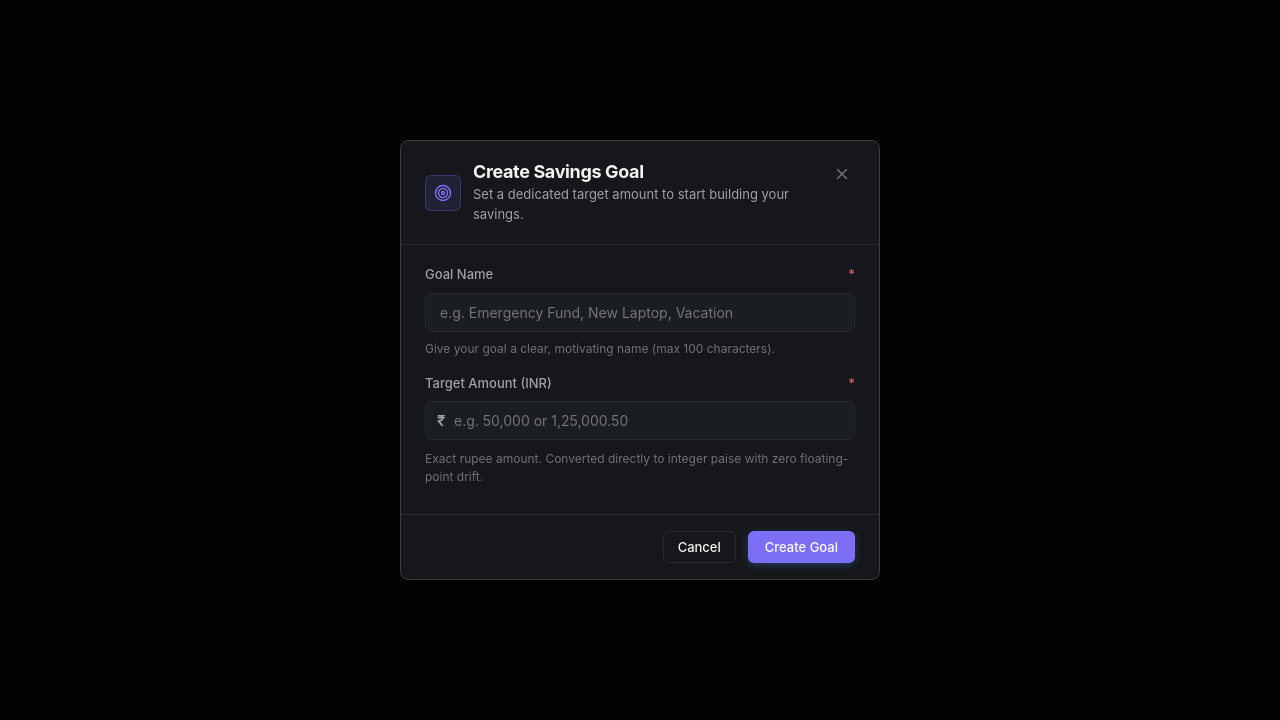
Test case: Milestone 3B: Savings Goals UI & Dashboard Integration Suite › 4. Goal Creation Modal & Validation › handles 409 ACTIVE_GOAL_EXISTS with informative conflict feedback
Type "Car Downpayment" into the field labelled "Goal Name *" at (640, 312), box 425,293 -> 855,332
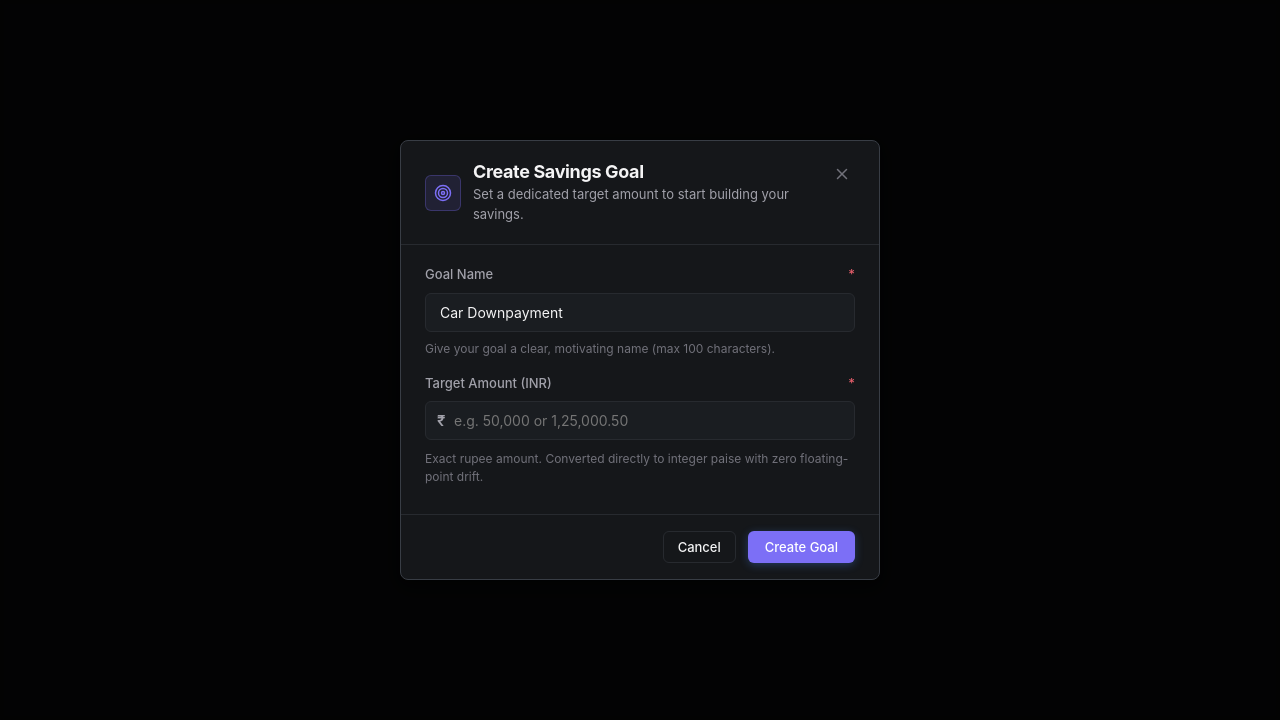
Type "2,00,000" into the field labelled "Target Amount (INR) *" at (640, 421), box 425,401 -> 855,440
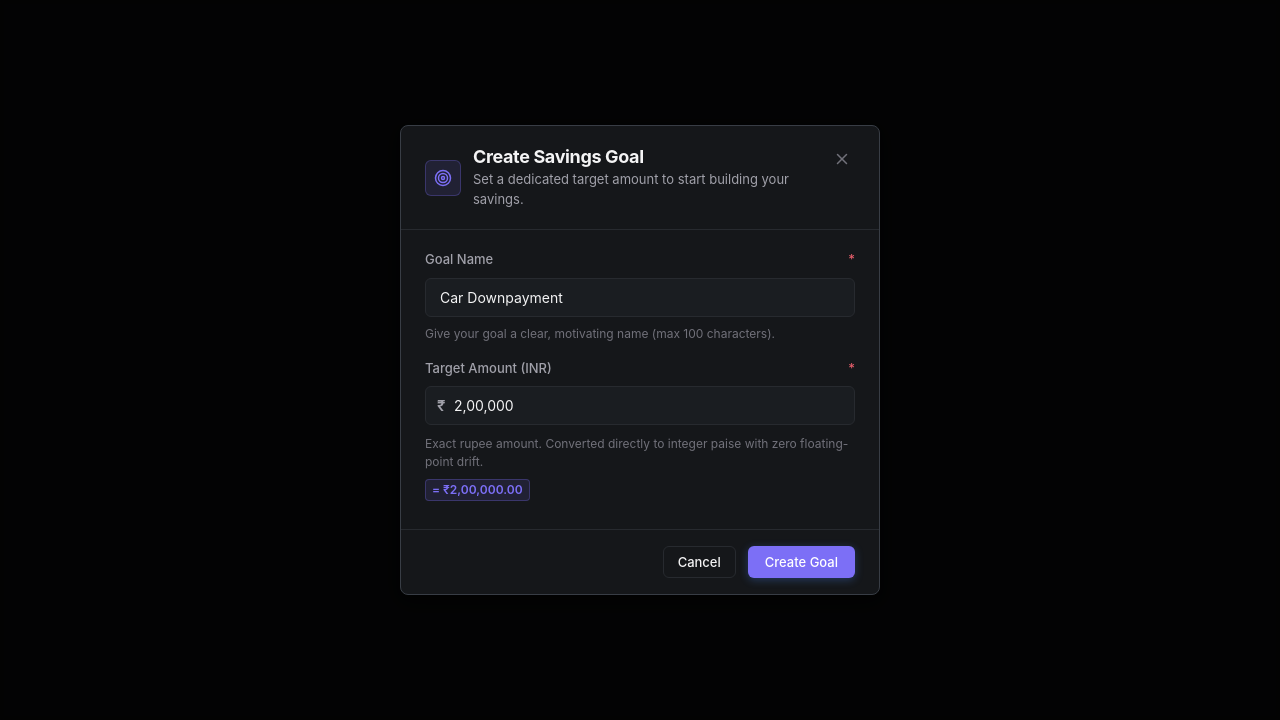
Click the button "Create Goal" at (801, 562), box 748,546 -> 855,578
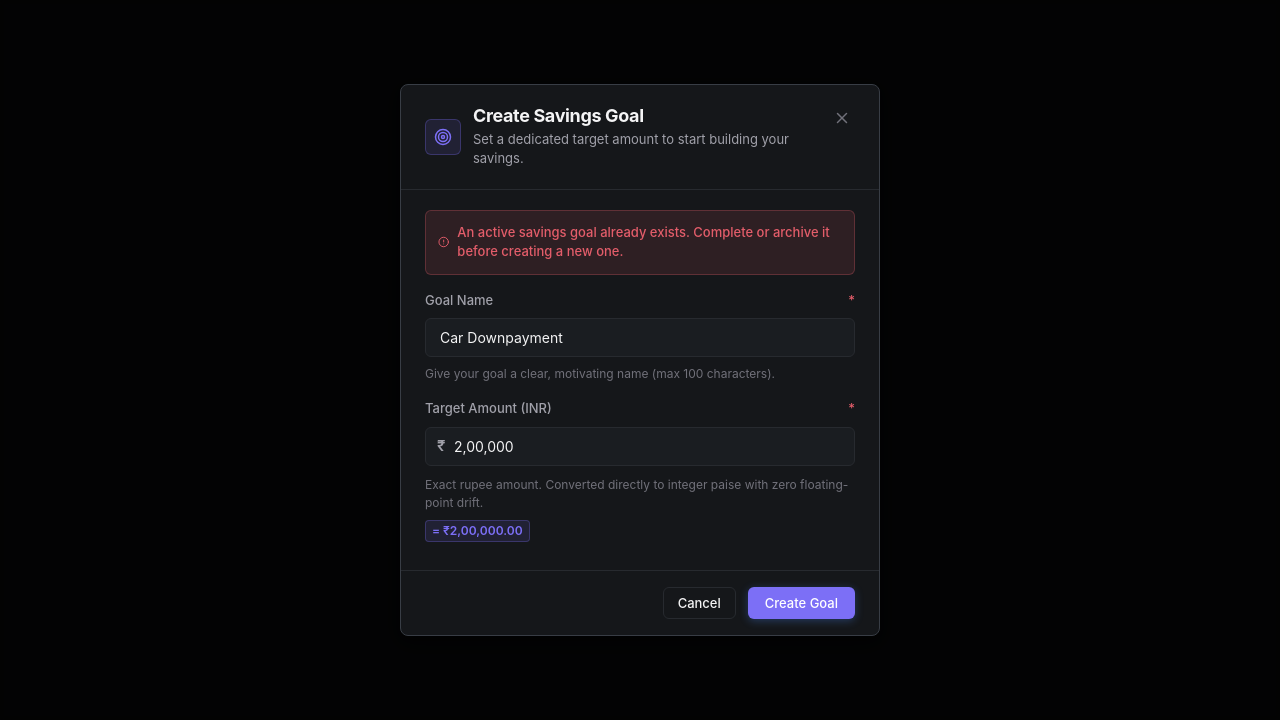
Check: the message shows "An active savings goal already exists. Complete or archive it before creating a new one.", box 457,224 -> 830,259
